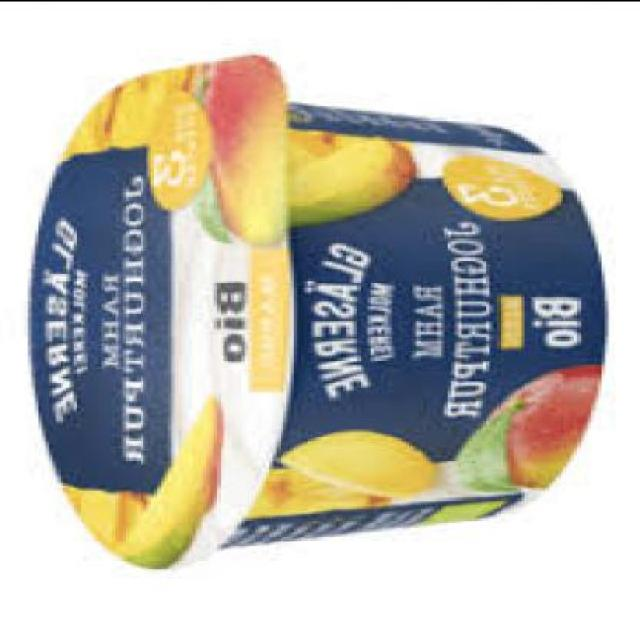PLASTIC: (24, 48, 602, 566)
